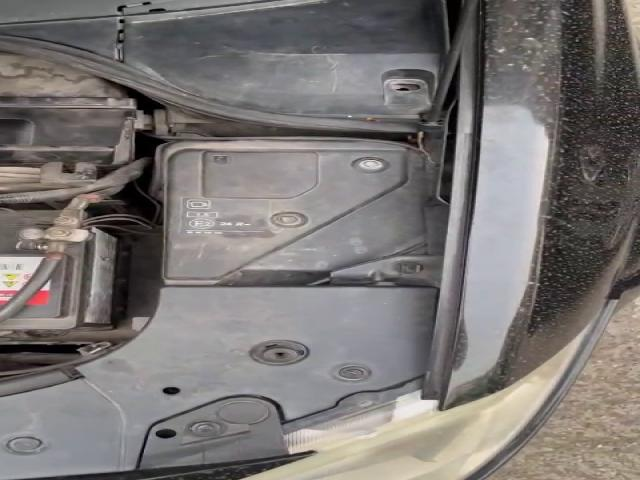accumulator: (0, 211, 123, 330)
fuse_box: (165, 148, 420, 282)
